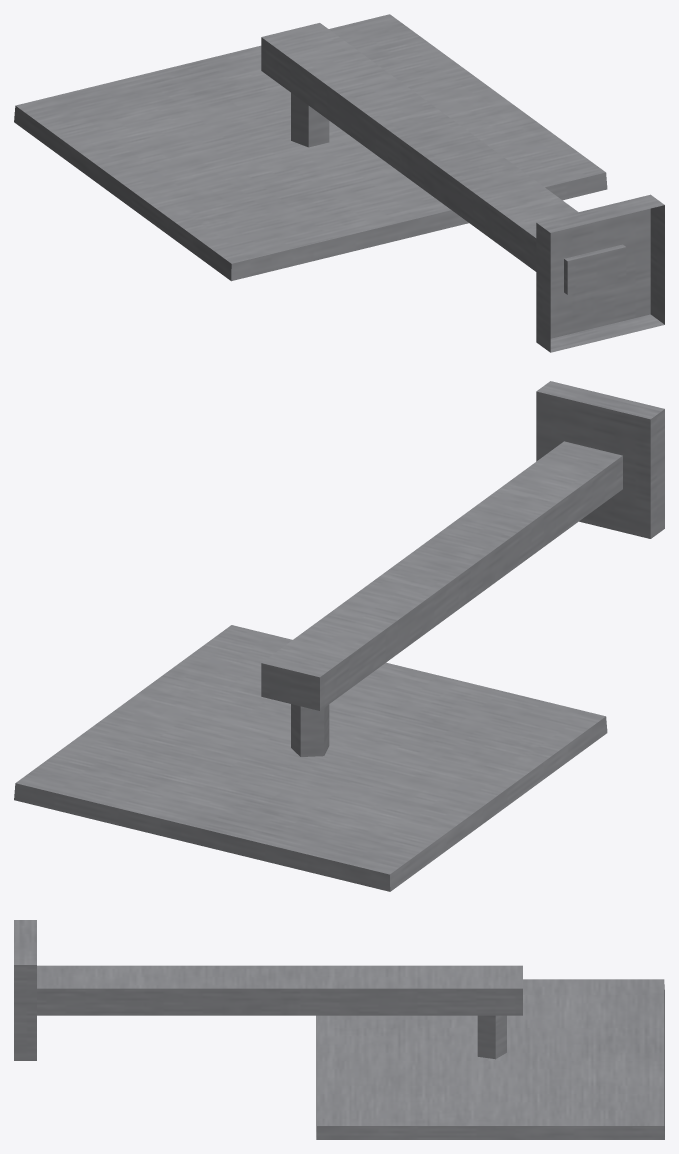
Rendered from Watering_can_07.glb.
3 renders of one model, top to bottom at view 1: azimuth 30°, elevation 25°; view 2: azimuth 150°, elevation 25°; view 3: azimuth 270°, elevation 25°, orthographic. The views are drawn at different scales.
Parts seen in each view (by area): view 1: Watering_can_07; view 2: Watering_can_07; view 3: Watering_can_07.
Part boxes in pixels (<box>): Watering_can_07: <box>14,14,664,352</box>; Watering_can_07: <box>14,381,664,891</box>; Watering_can_07: <box>14,920,664,1139</box>.
Bounding box in the file's own units: 0.3665 × 0.1435 × 0.6844.
Materials: 2 (2 with a texture image).
